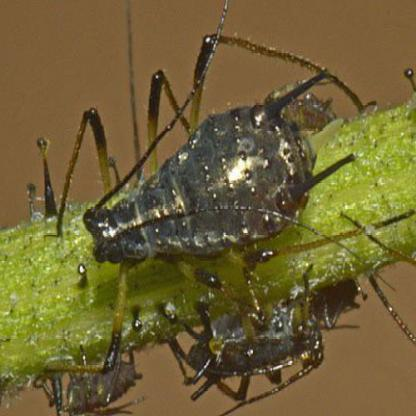uroleucon compositae: (85, 32, 355, 369)
